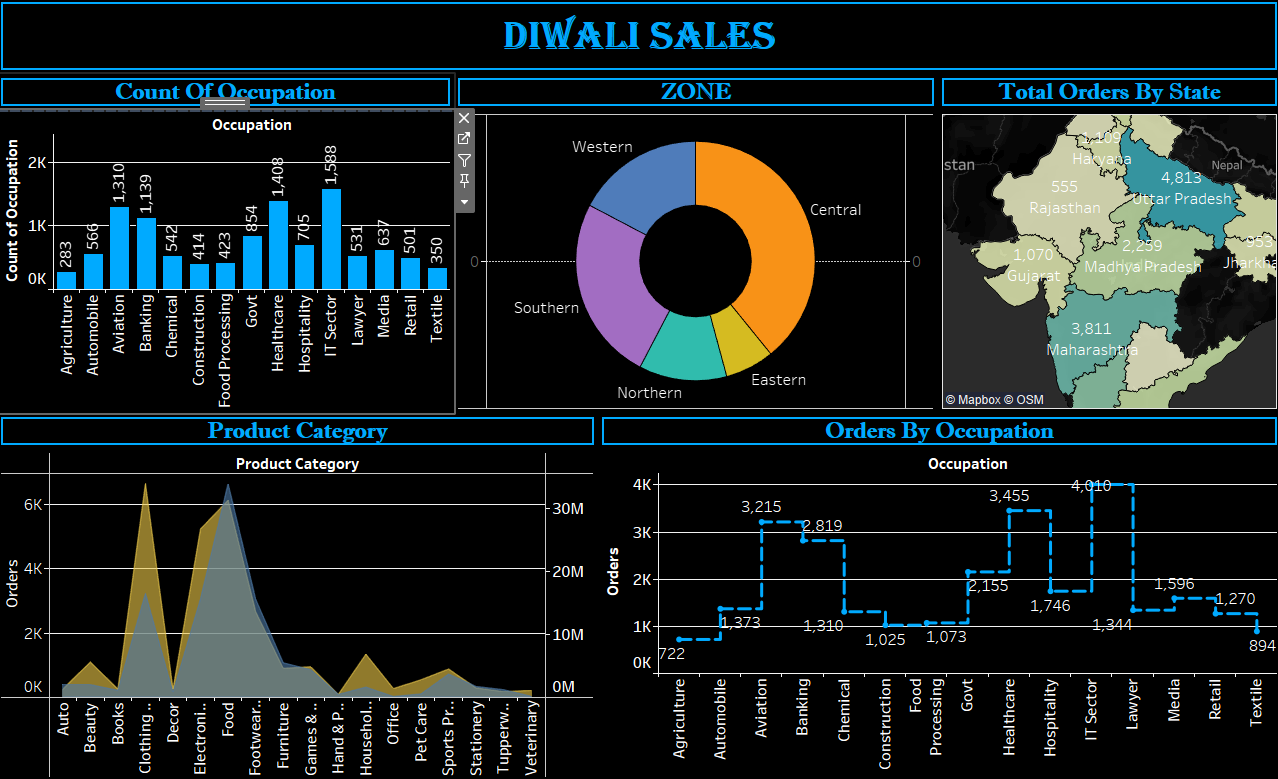

This screenshot's page, from the dashboard's own definition file:
{"tool":"tableau","page":{"name":"Dashboard 2","canvas":[1300,800],"ordinal":1},"visuals":[{"type":"text","box":[8,8,1284,76]},{"type":"text","box":[8,84,457,36]},{"type":"text","box":[465,84,484,36]},{"type":"text","box":[949,84,343,36]},{"type":"worksheet","title":"Count of occupation","mark":"Automatic","rows":["Occupation"],"cols":["Occupation"],"box":[8,120,457,303]},{"type":"worksheet","title":"Zone","mark":"Pie","rows":["Calculation_720013026391658496","Calculation_720013026391658496"],"box":[465,120,484,303]},{"type":"worksheet","title":"Total oders by state","mark":"Automatic","box":[949,120,343,303]},{"type":"text","box":[8,423,601,36]},{"type":"text","box":[609,423,682.9,36]},{"type":"worksheet","title":"product category","mark":"Area","rows":["Orders","Amount"],"cols":["Product_Category"],"box":[8,459,601,333]},{"type":"worksheet","title":"orders by occupation","mark":"Line","rows":["Orders"],"cols":["Occupation"],"box":[609,459,682.9,333]}]}

Visuals, with their boxes in screenshot pixels (x1, y1, x2, y2), scaled from the page's 1300x800 canvas onto the 1278x779 screenshot:
text: (x1=8, y1=8, x2=1270, y2=82)
text: (x1=8, y1=82, x2=457, y2=117)
text: (x1=457, y1=82, x2=933, y2=117)
text: (x1=933, y1=82, x2=1270, y2=117)
"Count of occupation" worksheet: (x1=8, y1=117, x2=457, y2=412)
"Zone" worksheet (Pie marks): (x1=457, y1=117, x2=933, y2=412)
"Total oders by state" worksheet: (x1=933, y1=117, x2=1270, y2=412)
text: (x1=8, y1=412, x2=599, y2=447)
text: (x1=599, y1=412, x2=1270, y2=447)
"product category" worksheet (Area marks): (x1=8, y1=447, x2=599, y2=771)
"orders by occupation" worksheet (Line marks): (x1=599, y1=447, x2=1270, y2=771)
